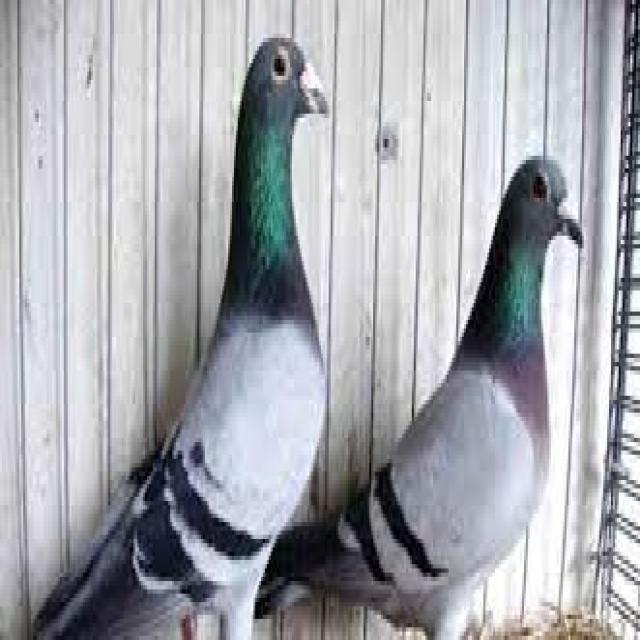bird: (22, 36, 332, 640), (272, 151, 592, 640)
